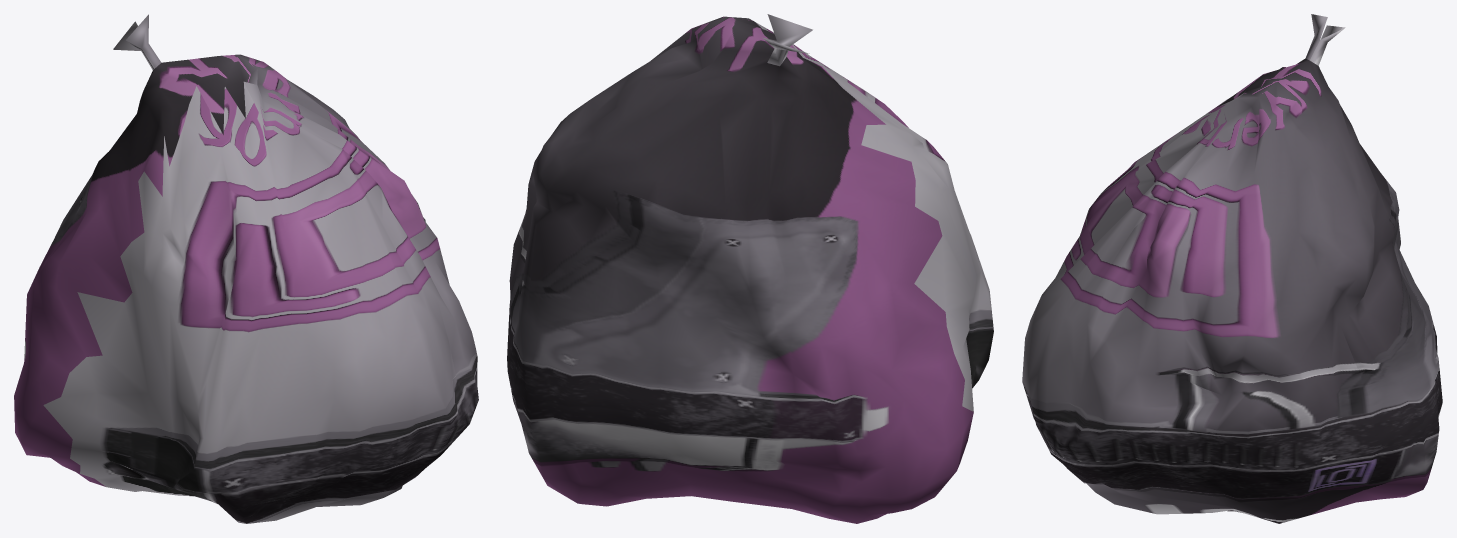
Rendered from SM_TrashBag2.fbx.
3 views of the same model, side by side, from view 1: azimuth 30°, elevation 25°; view 2: azimuth 150°, elevation 25°; view 3: azimuth 270°, elevation 25° (orthographic). The views are drawn at different scales.
Visible parts, largest first — view 1: Trash Bag 2 High; view 2: Trash Bag 2 High; view 3: Trash Bag 2 High.
Part boxes in pixels (box(x1,y1,x2,y2)): Trash Bag 2 High: box(14, 14, 478, 523); Trash Bag 2 High: box(507, 14, 993, 523); Trash Bag 2 High: box(1022, 14, 1442, 523).
Bounding box in the file's own units: 55.54 × 52.67 × 59.68.
